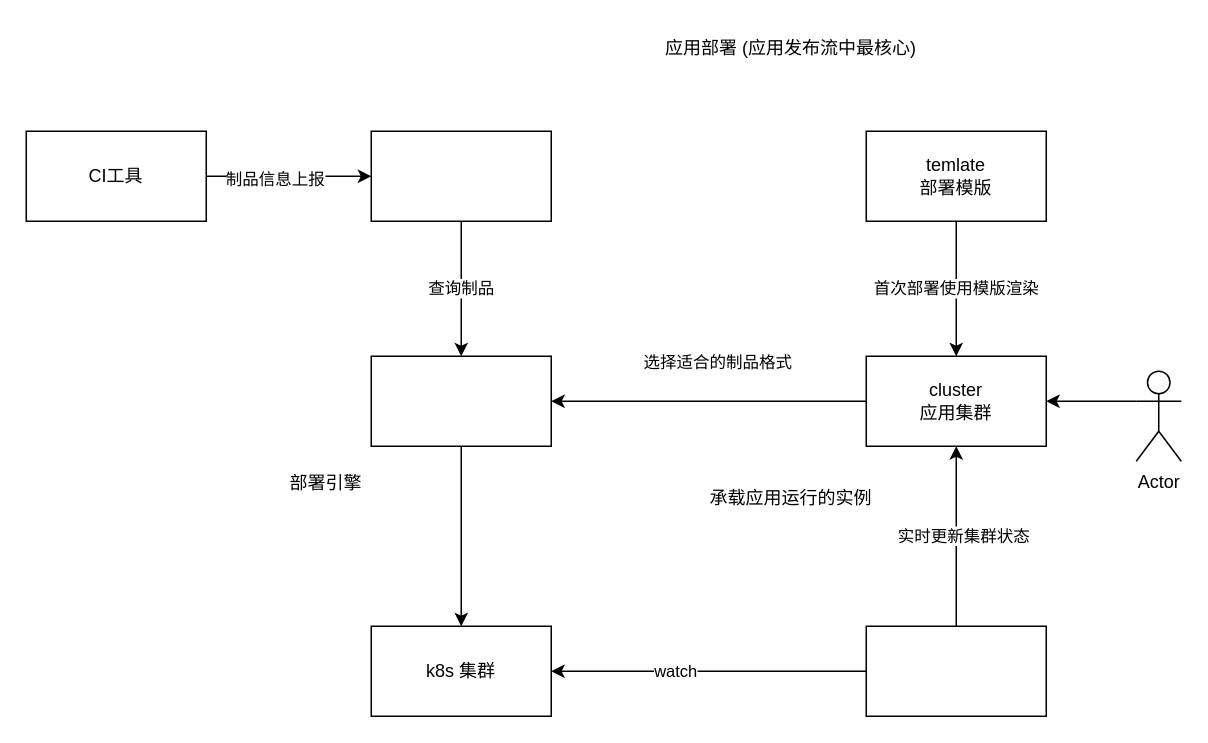
This 1208x743 diagram has some shape labels left out. The shapes that lost their labels are listed below. From the top down, each one's box as (x1, y1, x2, y2) in pixels, then its label:
(370, 130, 551, 221): artifact 制品库
(370, 355, 551, 446): deploy 应用部署
(865, 625, 1046, 716): sync 部署同步
